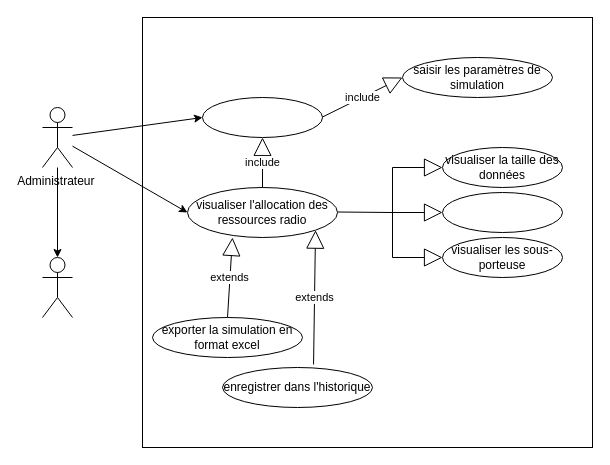
The diagram is 610 pixels wide and 465 high, and some of its shapes have lost their labels. The centre of each missing label's shape, as x and y in pixels:
"soumettre la formulaire" belongs at (x=262, y=117).
"utilisateur" belongs at (x=57, y=287).
"visualiser le schéma de codage" belongs at (x=502, y=212).
